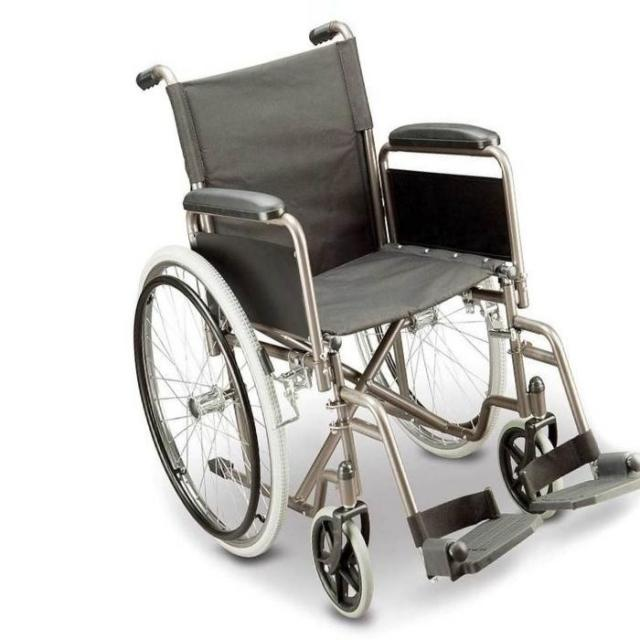wheelchair: (0, 15, 640, 620)
